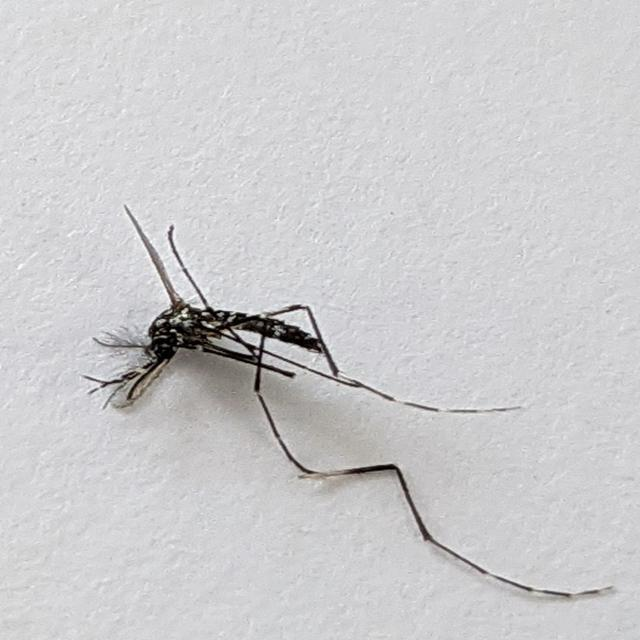albopictus: (88, 183, 582, 603)
